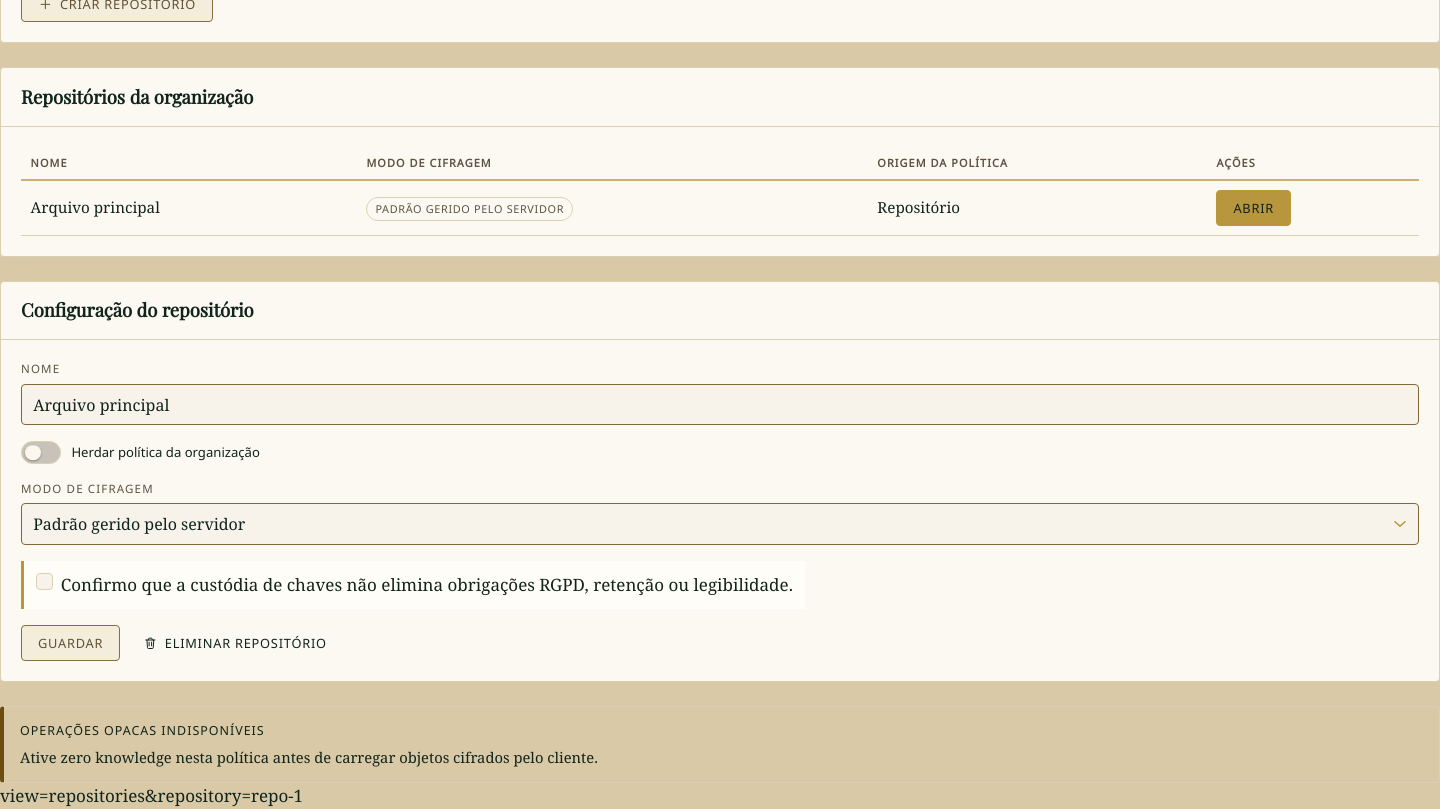
RepositoryDetail › reports a rejected repository patch without discarding the edited name
This screenshot has width=1440, height=809.
Replace the text in the field labelled "Nome" with "Arquivo renomeado" at (720, 405), box [21,384,1419,425]
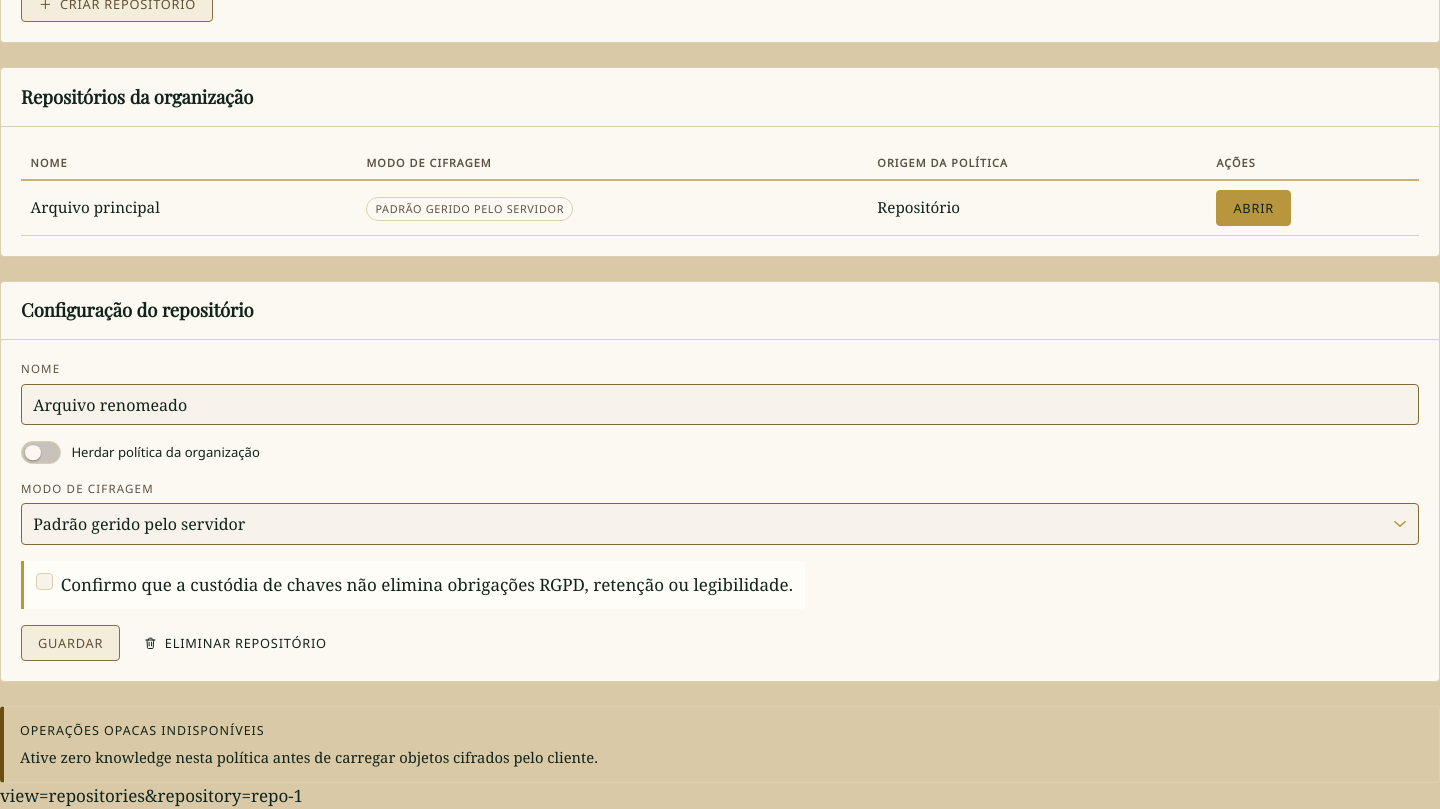
Click the checkbox named "Confirmo que a custódia de chaves não elimina obrigações RGPD, retenção ou legibilidade." at (44, 581), box [36,573,53,590]
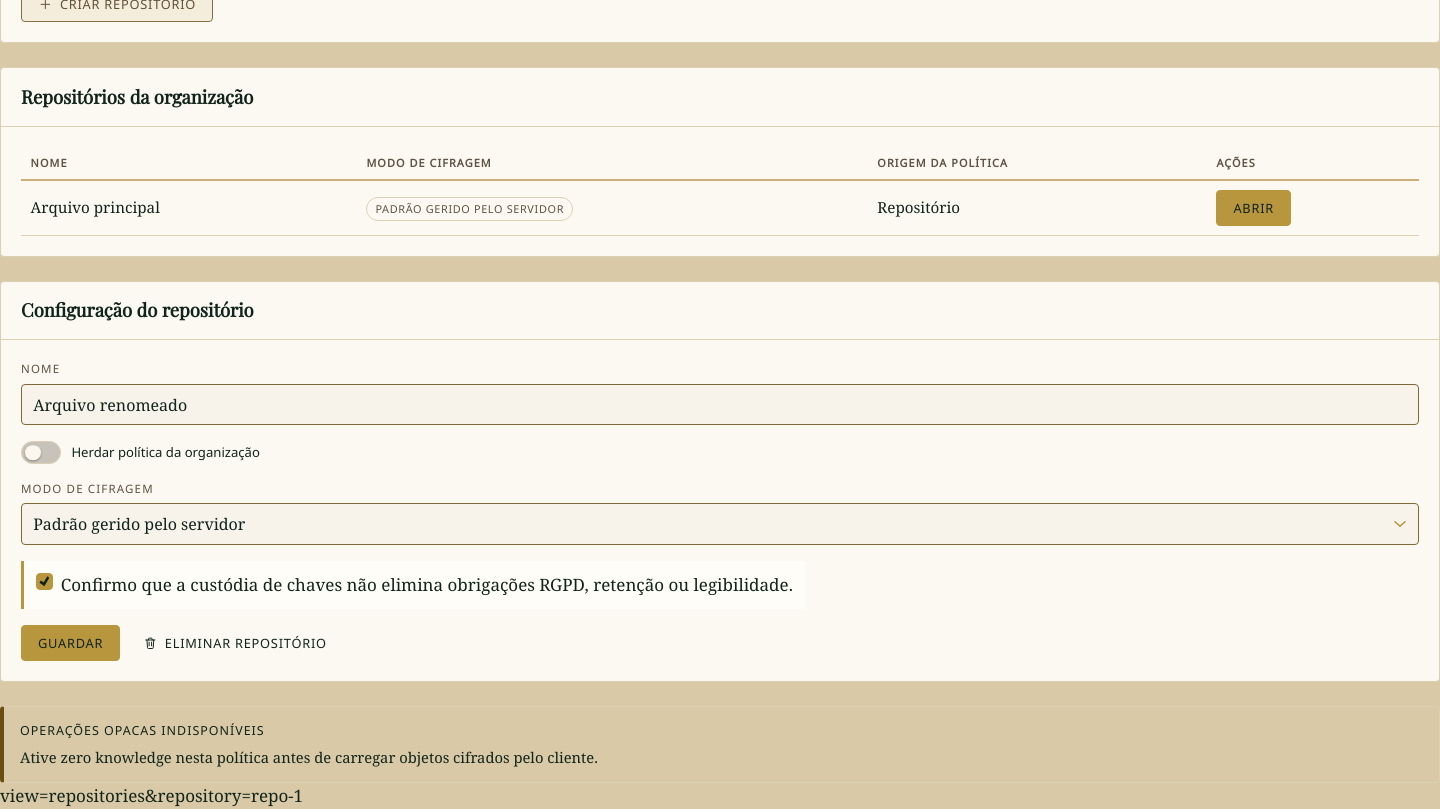
Click the button "Guardar" at (71, 643), box [21,625,120,661]
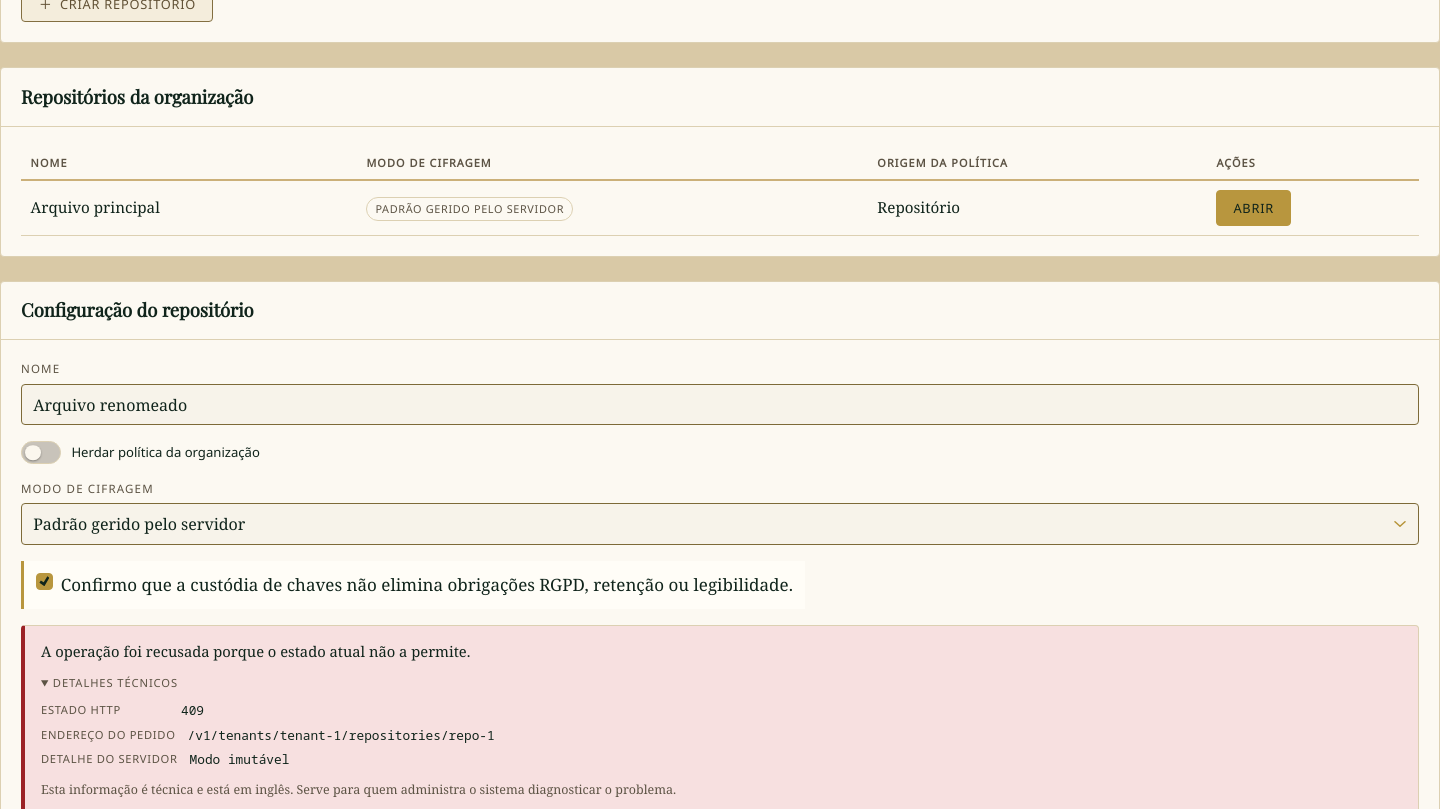
Expected: the text "Modo imutável" is shown, [190,750,289,768]
